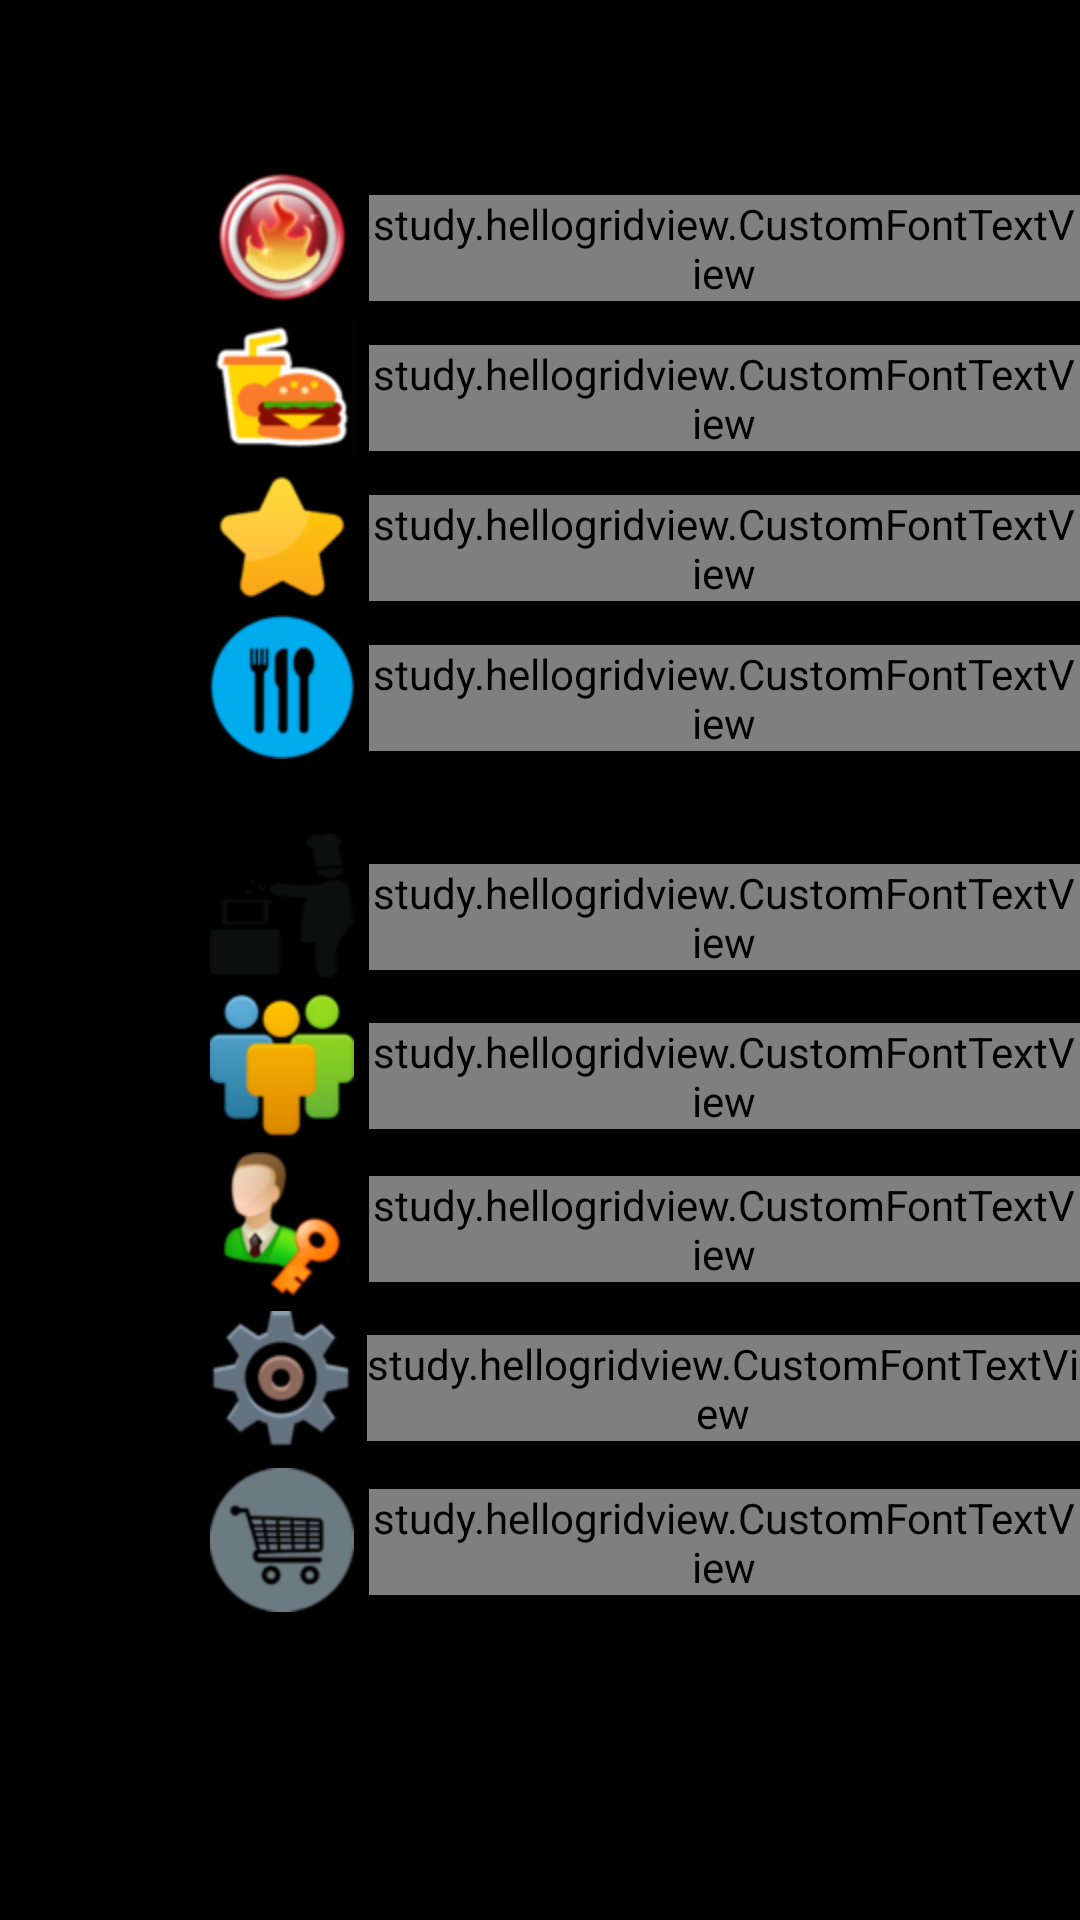

Icon bounding boxes for this 1080 x 1920 phone screenshot, format (x1, y1, x2, y2):
all dish: (210, 615, 354, 759)
builtin dish: (215, 327, 349, 448)
favorite dish: (219, 476, 345, 598)
hot dish: (218, 173, 346, 301)
login: (223, 1152, 341, 1296)
setting: (212, 1311, 349, 1446)
store: (210, 1468, 354, 1612)
users: (210, 994, 354, 1136)
